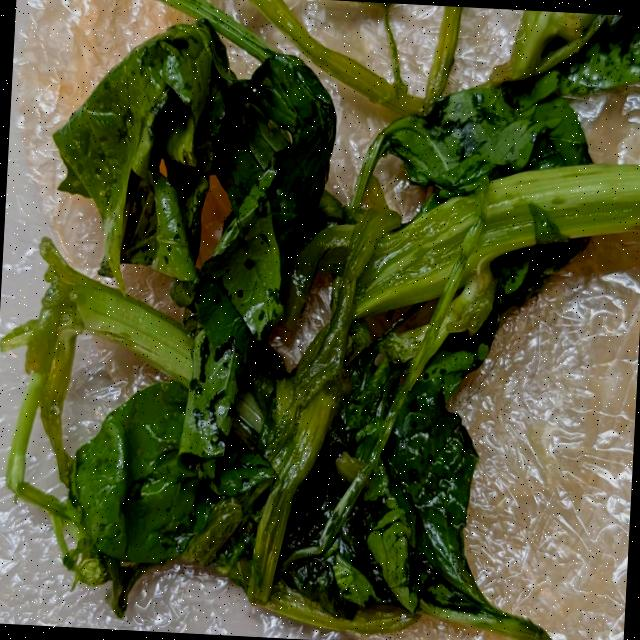rotten spinach: (35, 0, 640, 640), (68, 237, 509, 640), (45, 33, 358, 423), (351, 27, 640, 290)
